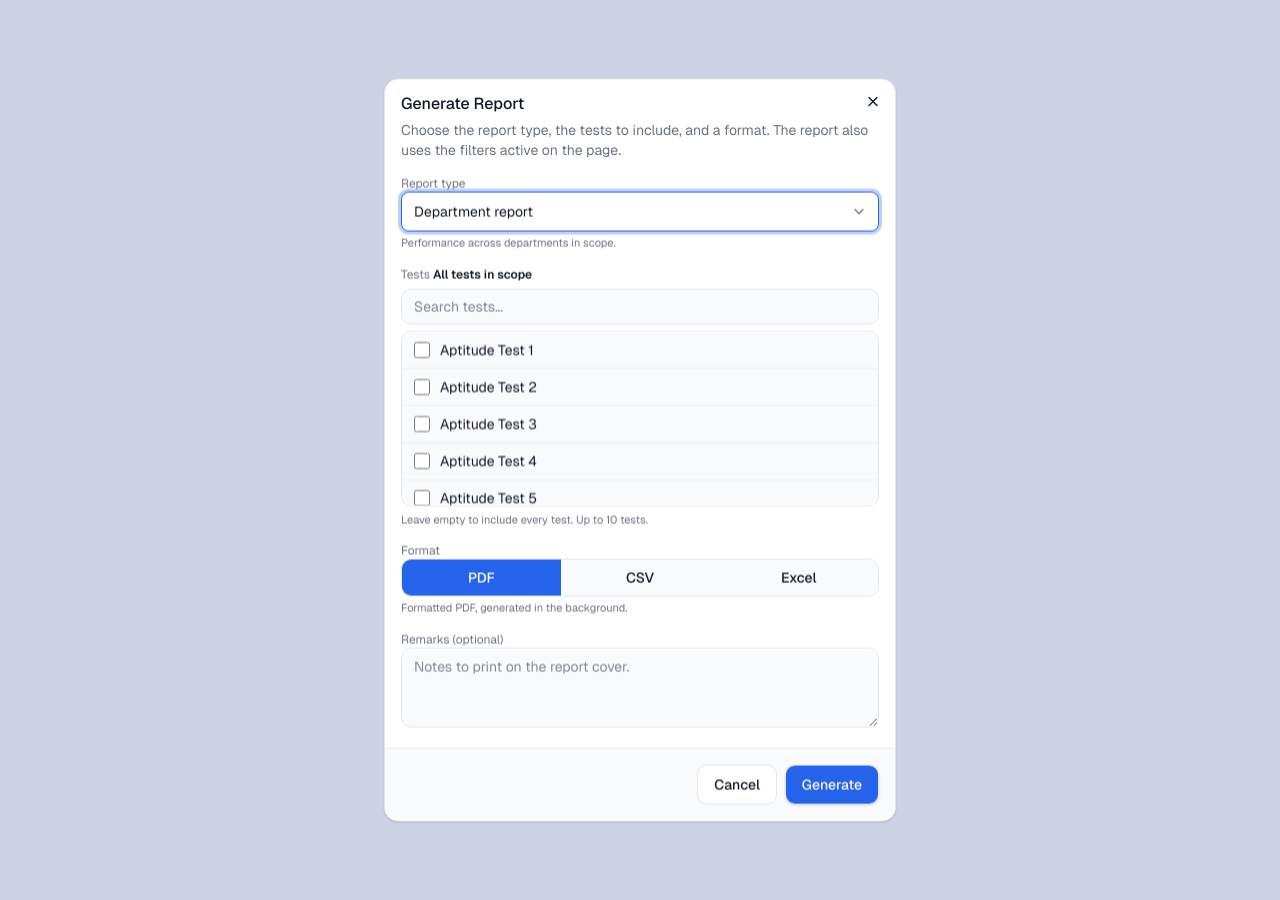
it: ReportBuilderDialog › filters the test list by search
This screenshot has width=1280, height=900.
In the field named "Search tests to include": {"x": 640, "y": 306} [401,288,879,324], type "Test 12"
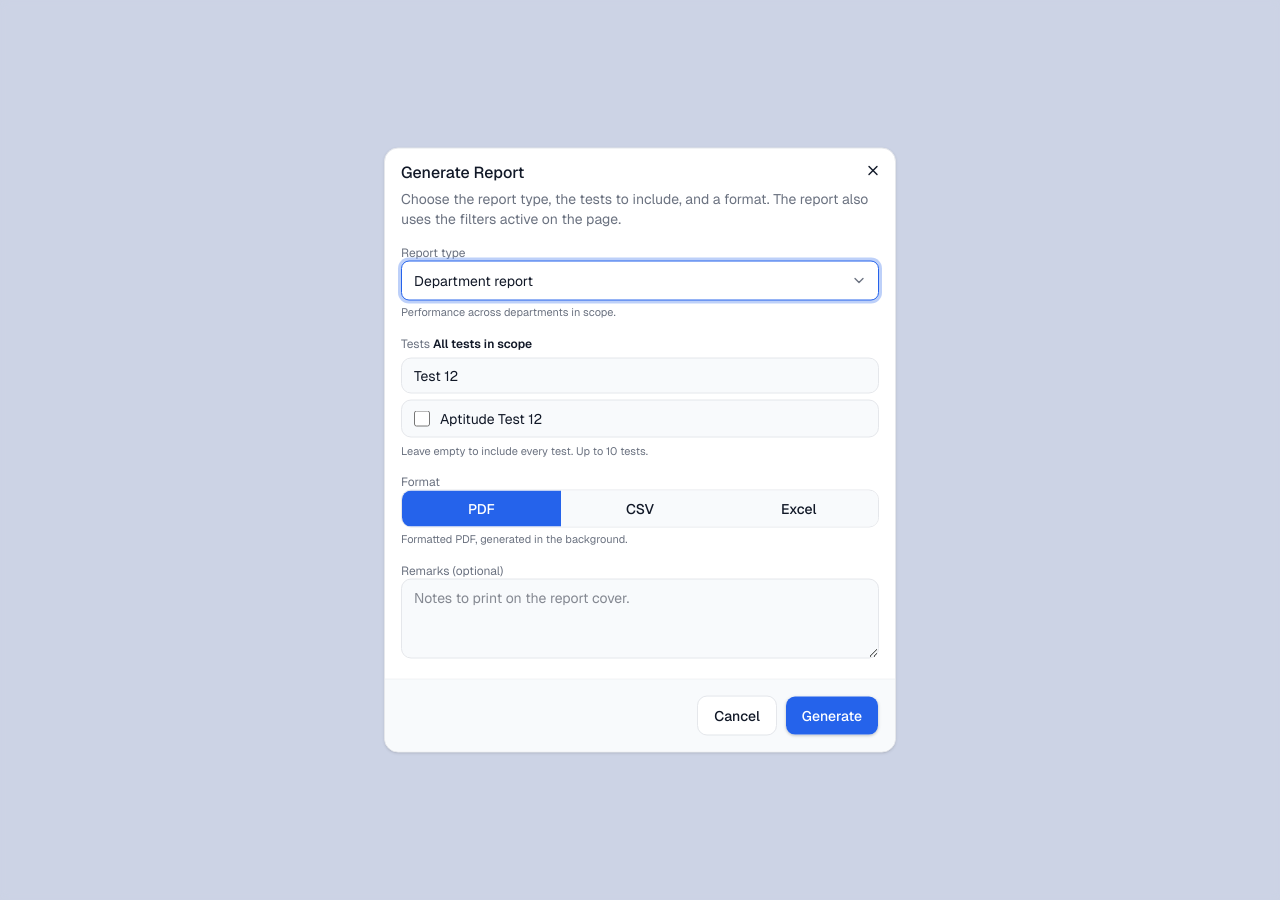
Expected: the number of checkboxes is 1, [414,410,430,426]
